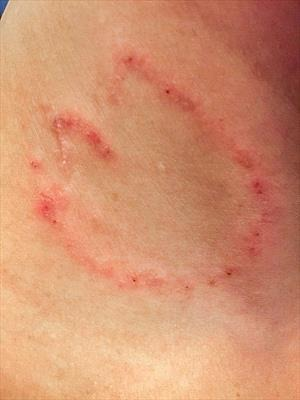Ringworm: (38, 53, 282, 298)
